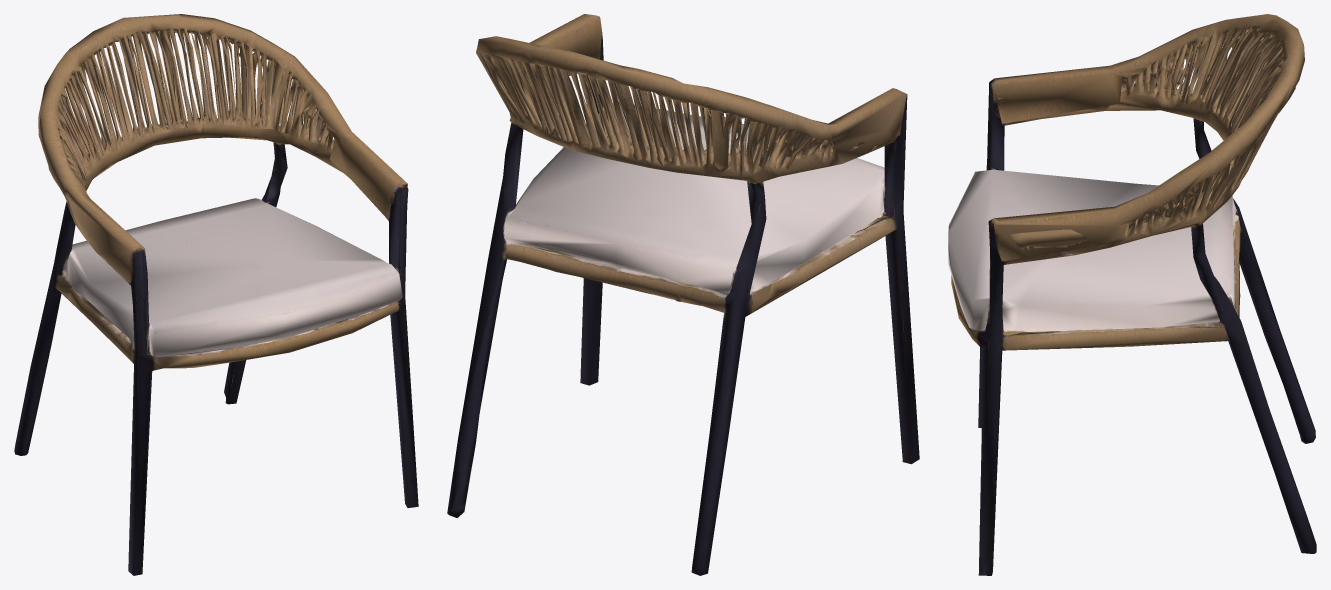
The model's file is chair-optimized.glb.
3 views of the same model, side by side, from view 1: azimuth 30°, elevation 25°; view 2: azimuth 150°, elevation 25°; view 3: azimuth 270°, elevation 25° (orthographic). The views are drawn at different scales.
Visible parts, largest first — view 1: mesh_node; view 2: mesh_node; view 3: mesh_node.
Part boxes in pixels (x1,y1,x2,y2): mesh_node: (14, 14, 418, 575); mesh_node: (447, 14, 919, 575); mesh_node: (948, 14, 1316, 575).
Bounding box in the file's own units: 1.43 × 2 × 1.46.
1 material, 1 textured.
